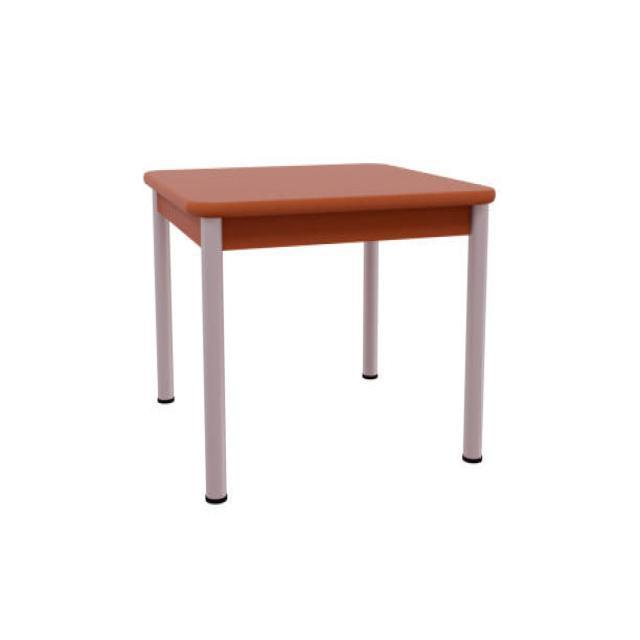table: (142, 161, 496, 504)
